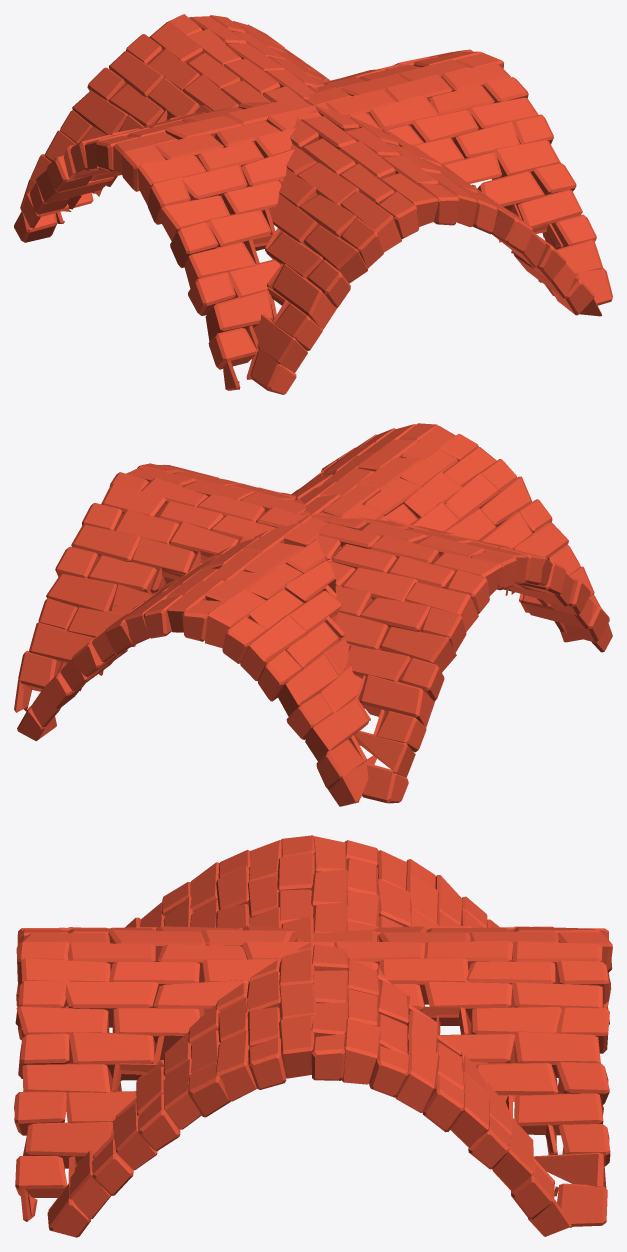
Rendered from techo cruzado (1).fbx.
3 views of the same model, one above another, from view 1: azimuth 30°, elevation 25°; view 2: azimuth 150°, elevation 25°; view 3: azimuth 270°, elevation 25° (orthographic). The views are drawn at different scales.
Visible parts, largest first — view 1: pared de ladrillos.010; view 2: pared de ladrillos.010; view 3: pared de ladrillos.010.
Part boxes in pixels (x1,y1,x2,y2): pared de ladrillos.010: (14, 14, 612, 394); pared de ladrillos.010: (14, 423, 612, 806); pared de ladrillos.010: (14, 835, 612, 1237).
Bounding box in the file's own units: 204 × 85.71 × 236.
